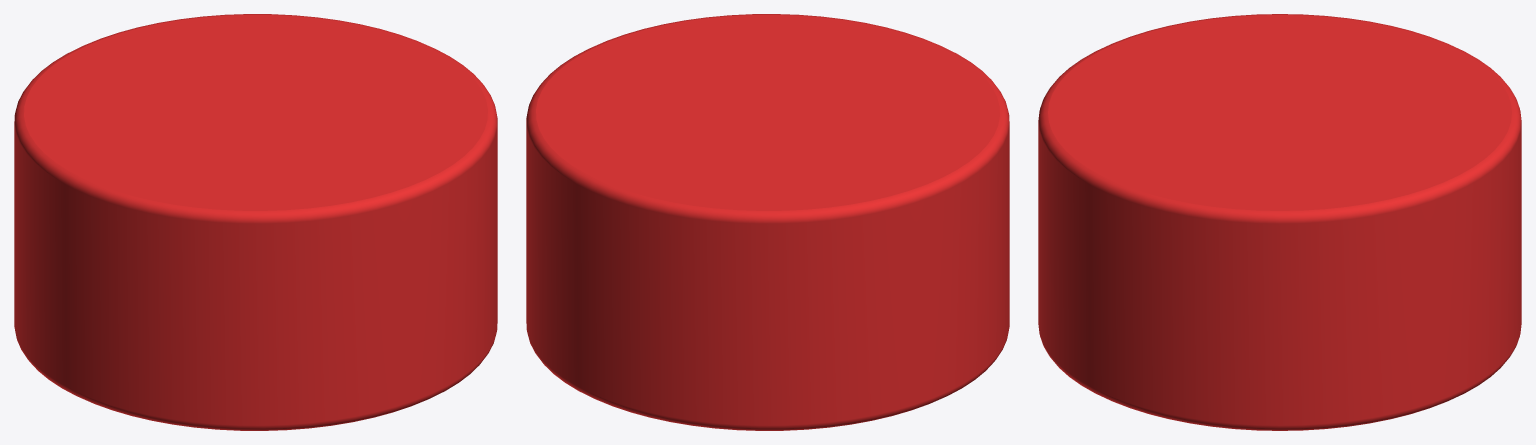
Rendered from tsumiki_red_normal.fbx.
The picture shows the model from 3 angles, left to right: view 1: azimuth 30°, elevation 25°; view 2: azimuth 150°, elevation 25°; view 3: azimuth 270°, elevation 25°; orthographic projection.
Visible parts, largest first — view 1: Tumiki_Red_Plain; view 2: Tumiki_Red_Plain; view 3: Tumiki_Red_Plain.
Part boxes in pixels (x1,y1,x2,y2): Tumiki_Red_Plain: [14, 14, 497, 430]; Tumiki_Red_Plain: [526, 14, 1009, 430]; Tumiki_Red_Plain: [1038, 14, 1521, 430].
Bounding box in the file's own units: 100 × 50 × 100.
